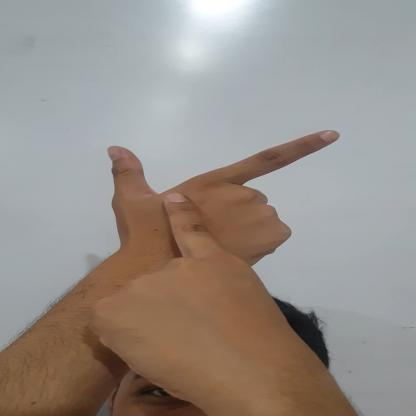Y: (102, 129, 340, 332)
